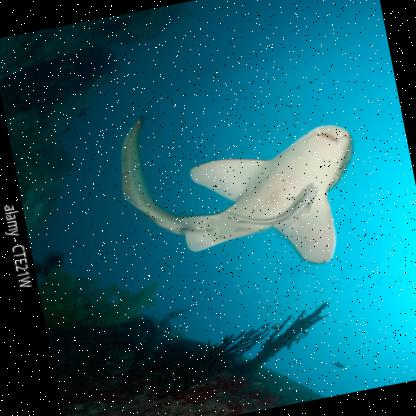zebra_shark: (88, 70, 392, 306)
